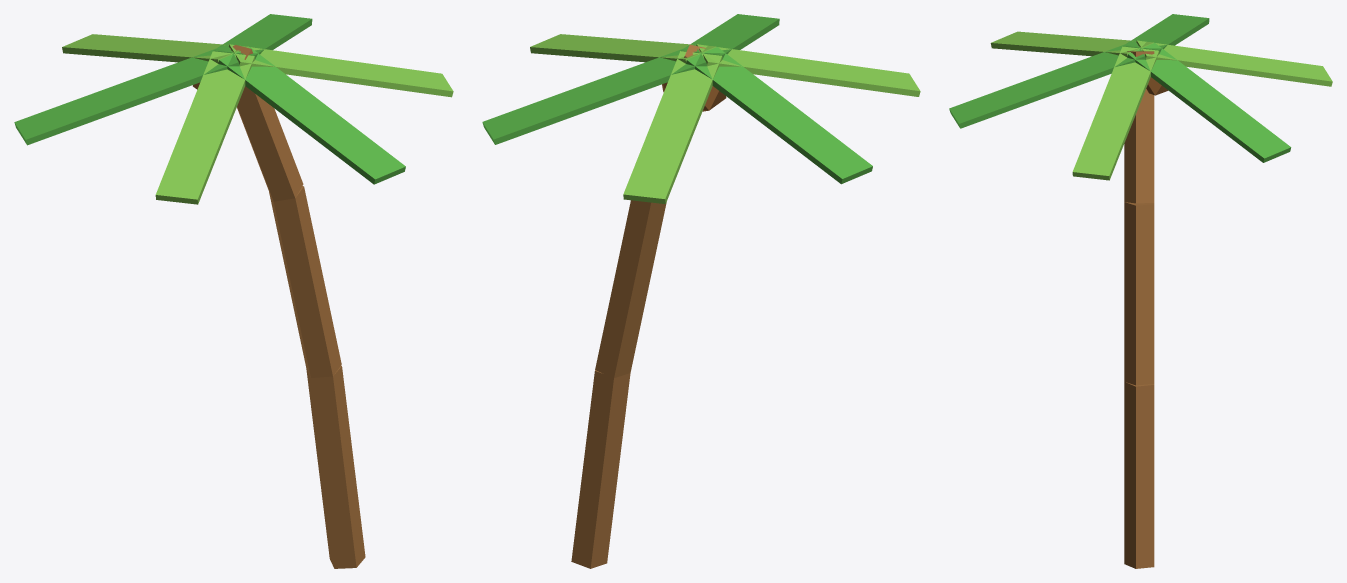
File: coqueiro.glb
3 views of the same model, side by side, from view 1: azimuth 30°, elevation 25°; view 2: azimuth 150°, elevation 25°; view 3: azimuth 270°, elevation 25° (orthographic). The views are drawn at different scales.
Visible parts, largest first — view 1: corpo; view 2: corpo; view 3: corpo.
Part boxes in pixels (<box>): corpo: <box>14,14,453,568</box>; corpo: <box>482,14,920,568</box>; corpo: <box>949,14,1332,568</box>.
Bounding box in the file's own units: 0.8074 × 1.1 × 0.8074.
